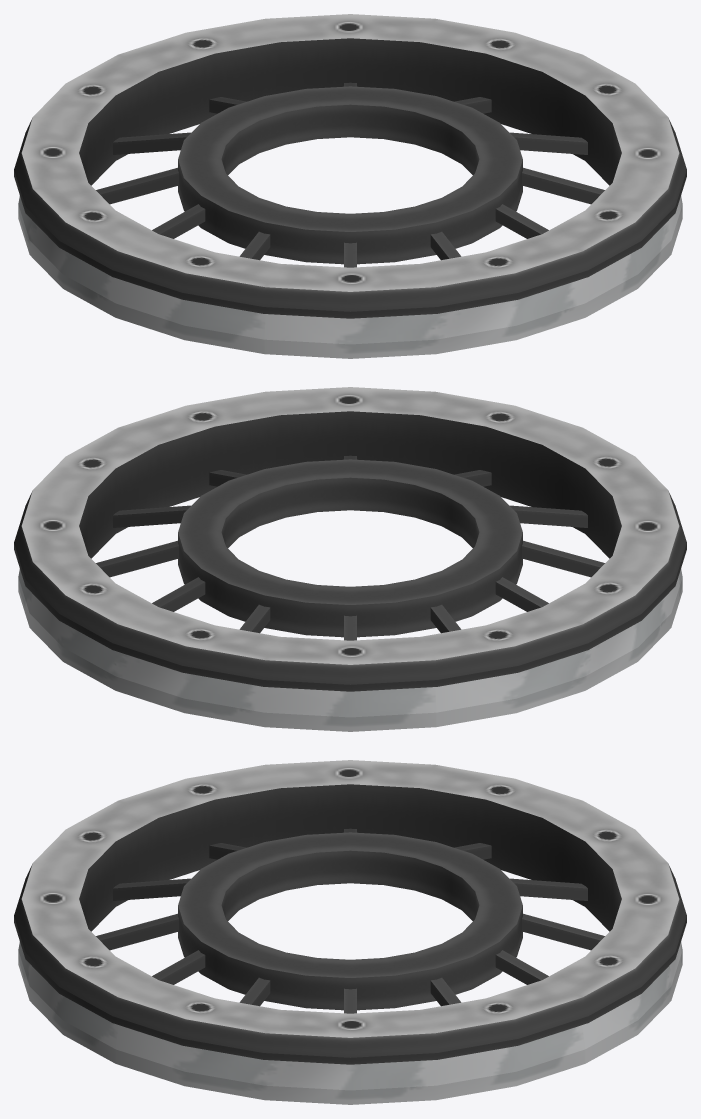
The model's file is 125mfairing.dae.
3 renders of one model, top to bottom at view 1: azimuth 30°, elevation 25°; view 2: azimuth 150°, elevation 25°; view 3: azimuth 270°, elevation 25°, orthographic.
Visible parts, largest first — view 1: Fairingbase_125m1; view 2: Fairingbase_125m1; view 3: Fairingbase_125m1.
Boxes of the visible parts, x1,y1,x2,y2 form: Fairingbase_125m1: [14, 14, 686, 358]; Fairingbase_125m1: [14, 387, 686, 731]; Fairingbase_125m1: [14, 760, 686, 1104].
Size of the model in its own units: 1.27 by 0.1361 by 1.27.
